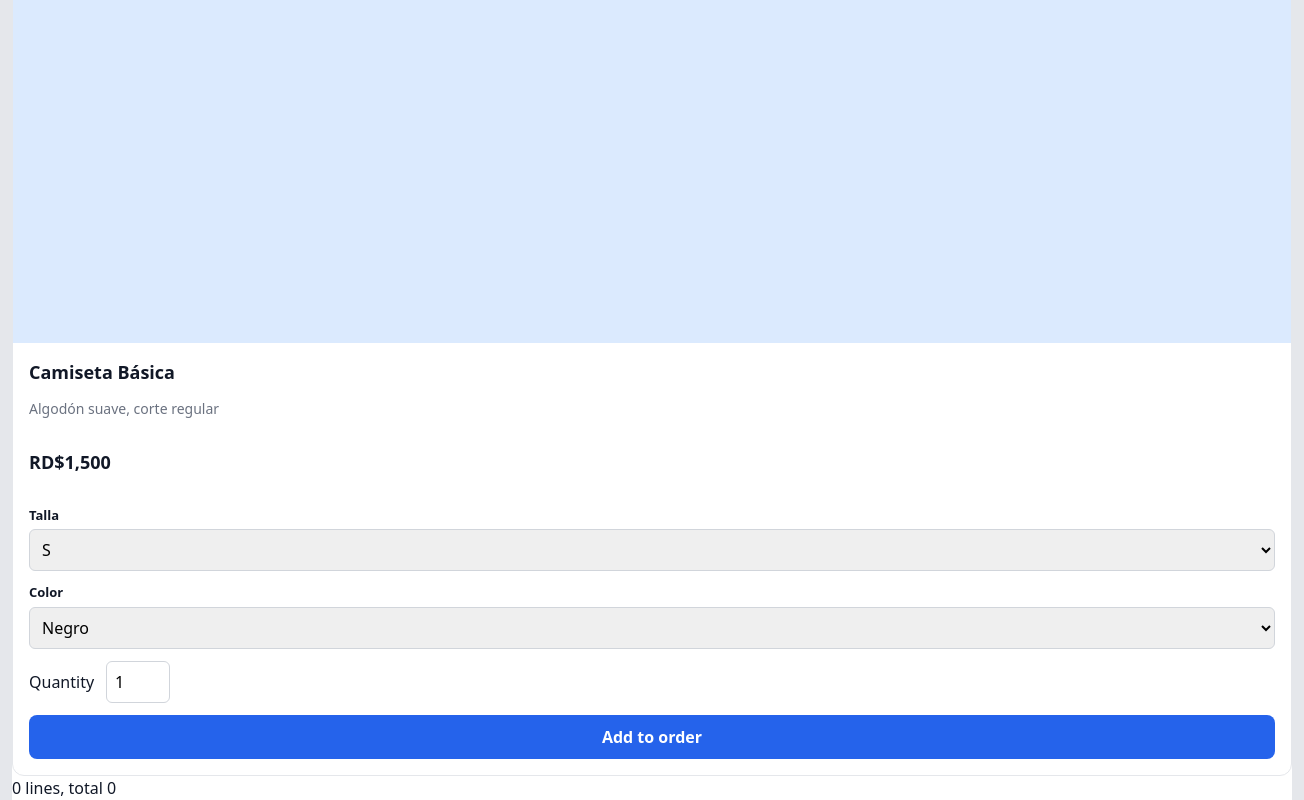
Test case: ProductCard › renders product name and adds to cart
(page scrolled)
Expected: the heading "Camiseta Básica" is shown, top-left (29, 360), bottom-right (175, 384)
Expected: the text "RD$1,500" is shown, top-left (29, 450), bottom-right (111, 474)
Click the button "Add to order". click: (652, 736)
box: top-left (29, 714), bottom-right (1275, 758)
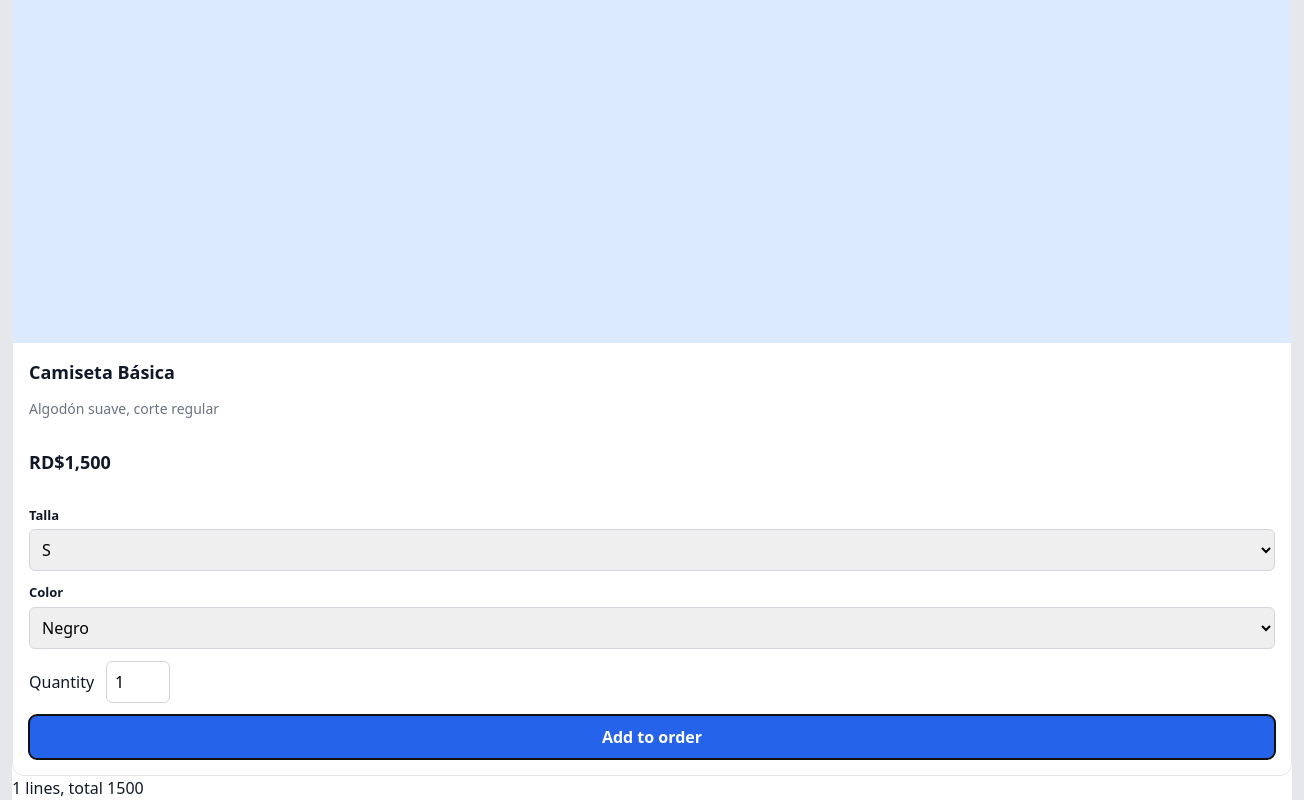
Result: the text with test id "cart-summary" shows "1 lines" at top-left (12, 776), bottom-right (144, 798)
Result: the text with test id "cart-summary" shows "1500" at top-left (107, 776), bottom-right (144, 798)
